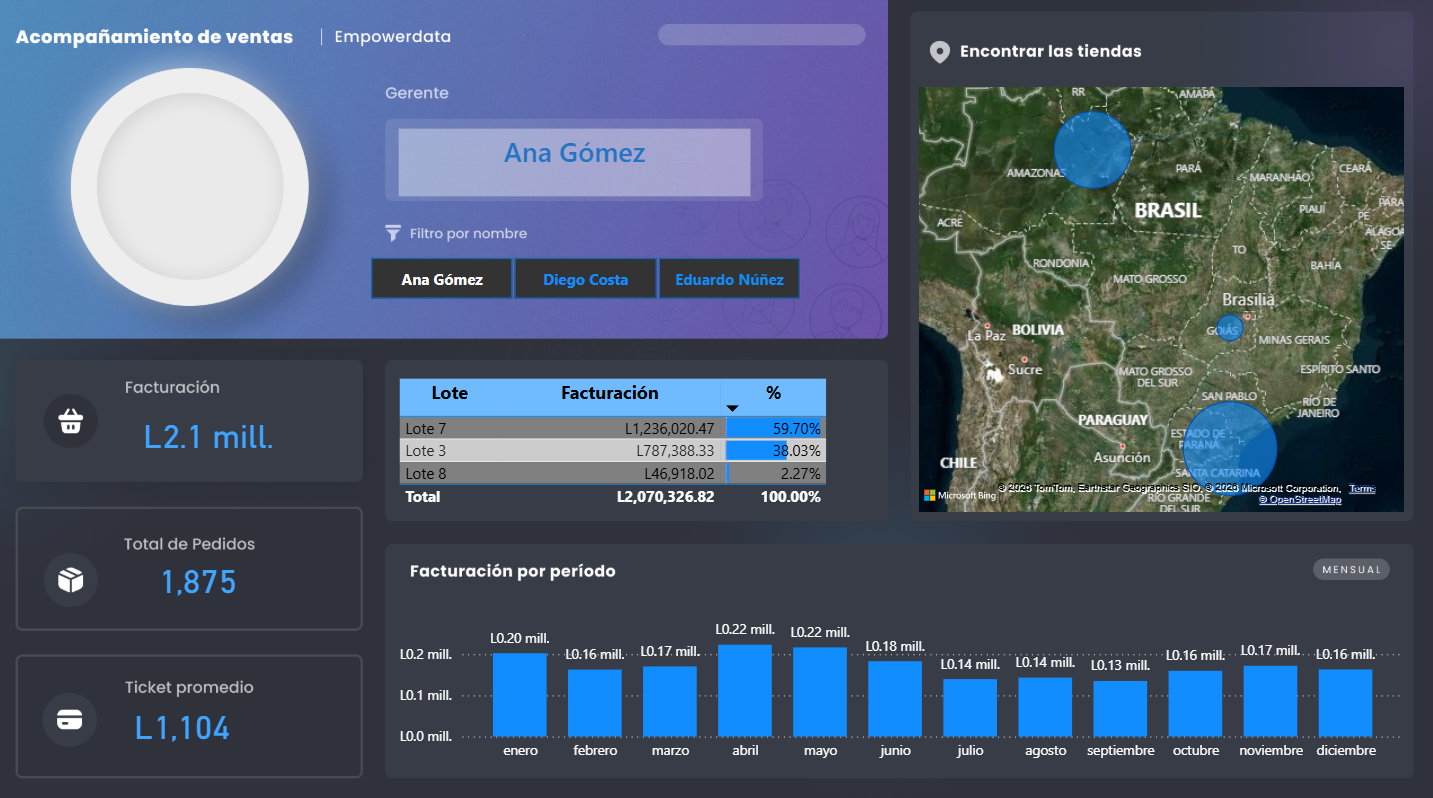

This screenshot's page, from the dashboard's own definition file:
{"tool":"powerbi","page":{"name":"Página 1","canvas":[1280,720],"ordinal":0},"visuals":[{"type":"card","fields":{"Values":["lotes.FacturacionTotal"]},"box":[82.6,359.8,216.7,69.5],"z":0},{"type":"card","fields":{"Values":["lotes.Cantidad"]},"box":[73.6,488.8,216.7,69.5],"z":1000},{"type":"card","fields":{"Values":["lotes.TicketPromedio"]},"box":[59.5,617.8,216.7,69.5],"z":2000},{"type":"slicer","fields":{"Values":["lotes.Gerente"]},"box":[309.4,231.8,430.4,50.4],"z":3000},{"type":"clusteredColumnChart","fields":{"Category":["pedidos.data_pedido.Variación.Jerarquía de fechas.Mes","pedidos.data_pedido.Variación.Jerarquía de fechas.Día"],"Y":["lotes.FacturacionTotal"]},"box":[354.8,542.2,901,150.2],"z":4000},{"type":"tableEx","fields":{"Values":["lotes.Nombre_Lote","lotes.FacturacionTotal","Divide(lotes.FacturacionTotal, ScopedEval(lotes.FacturacionTotal, []))"]},"box":[354.8,340.7,433.4,128],"z":5000},{"type":"map","fields":{"Y":["lotes.Latitud"],"X":["lotes.Longitud"],"Size":["lotes.FacturacionTotal"]},"box":[815.4,81.6,440.4,387],"z":6000},{"type":"cardVisual","fields":{"Data":["Min(lotes.Gerente)"]},"box":[354.8,118.9,322.5,70.6],"z":7000}]}

Visuals, with their boxes in screenshot pixels (x1, y1, x2, y2), scaled from the page's 1280x720 canvas onto the 1433x798 screenshot:
card - lotes.FacturacionTotal: region(92, 399, 335, 476)
card - lotes.Cantidad: region(82, 542, 325, 619)
card - lotes.TicketPromedio: region(67, 685, 309, 762)
slicer - lotes.Gerente: region(346, 257, 828, 313)
clusteredColumnChart - pedidos.data_pedido.Variación.Jerarquía de fechas.Mes x pedidos.data_pedido.Variación.Jerarquía de fechas.Día: region(397, 601, 1406, 767)
tableEx - lotes.Nombre_Lote x lotes.FacturacionTotal: region(397, 378, 882, 519)
map - lotes.Latitud x lotes.Longitud: region(913, 90, 1406, 519)
cardVisual - Min(lotes.Gerente): region(397, 132, 758, 210)
